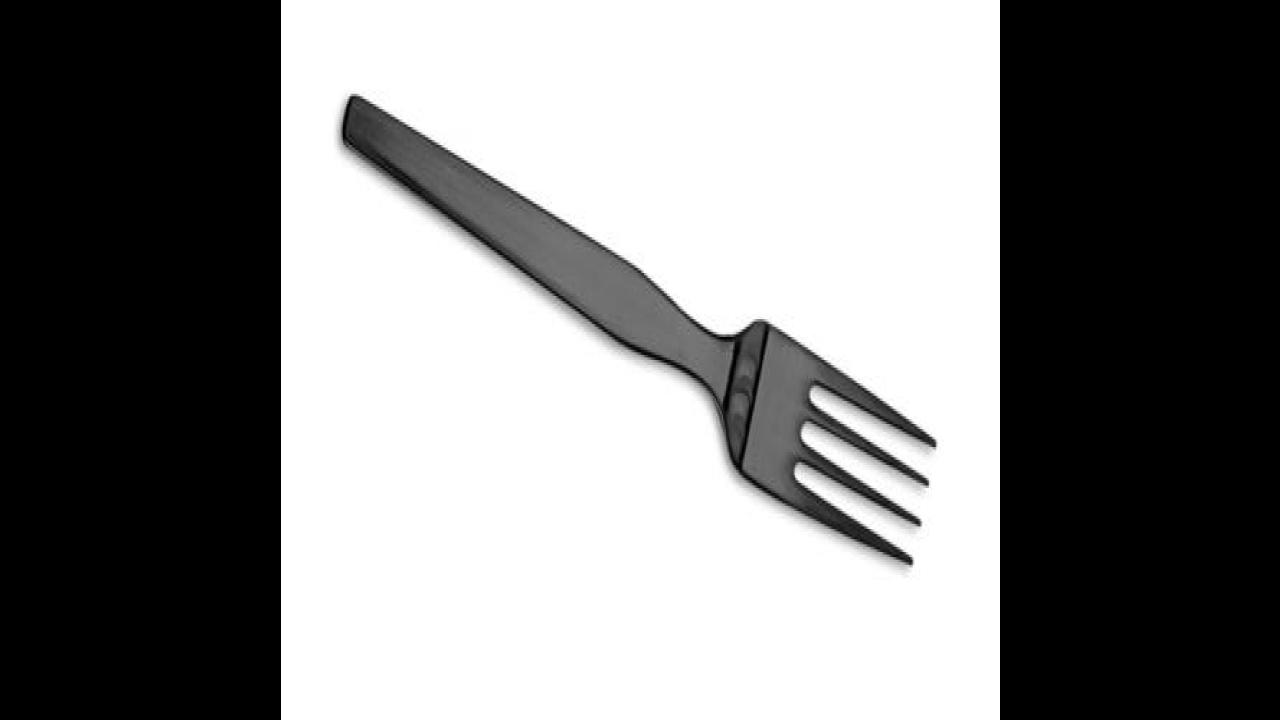fork: (342, 92, 938, 568)
